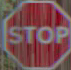Stop: (2, 3, 68, 60)
